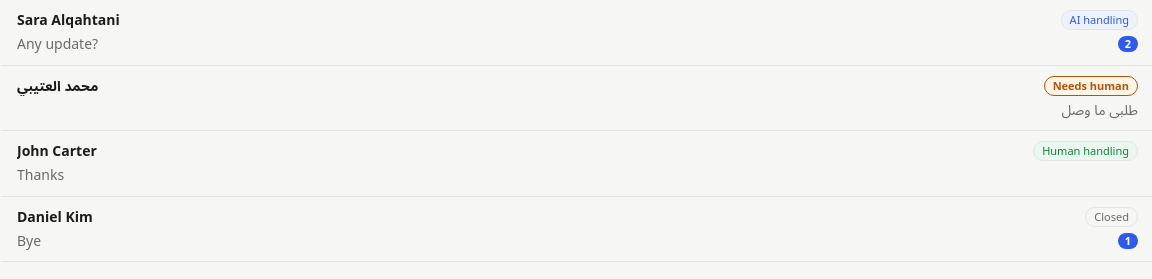
ConversationList › selecting a conversation marks it selected and clears its unread badge
Click the option "Sara Alqahtani AI handling Any update? 2": (68, 20) [0,0,1151,66]
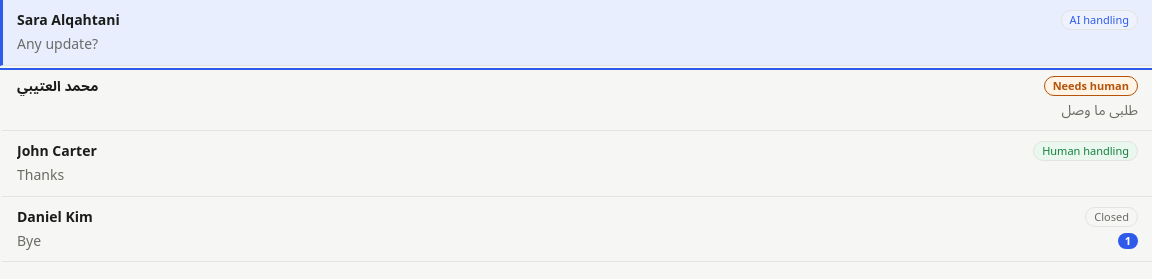
Expected: the text "2" is gone
